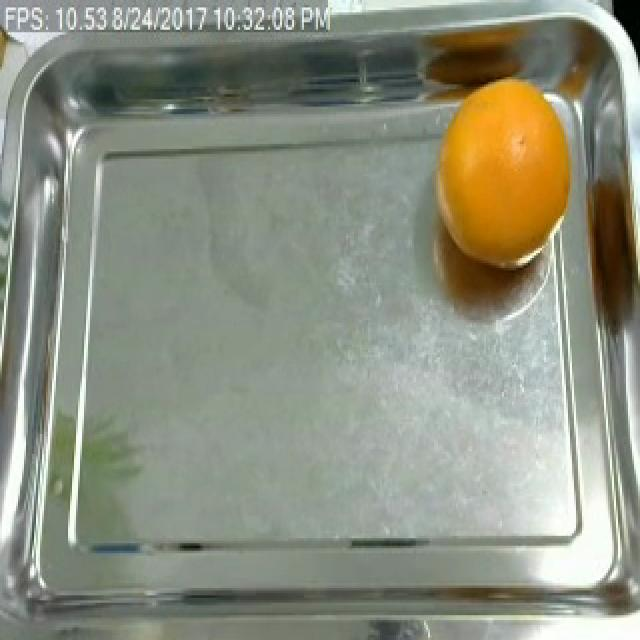Fruit: (426, 70, 586, 276), (0, 5, 18, 112)
